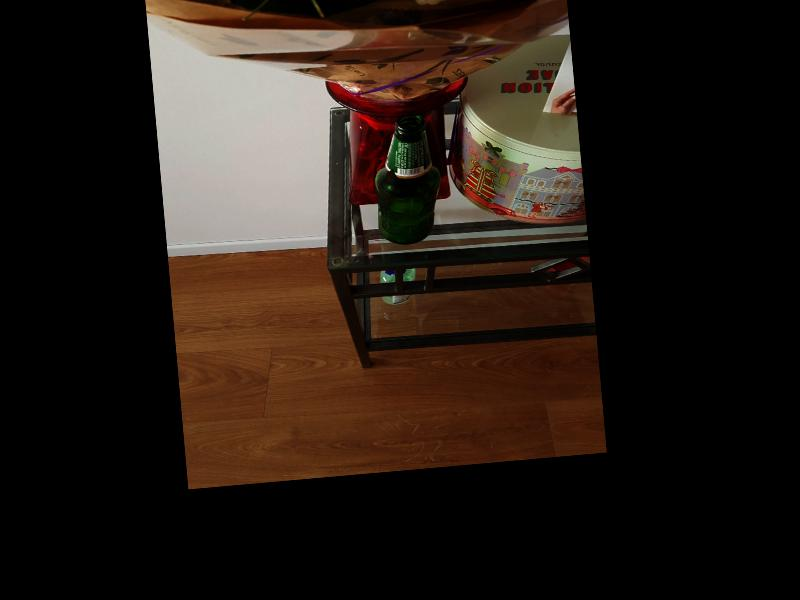Beer: (368, 113, 446, 247)
